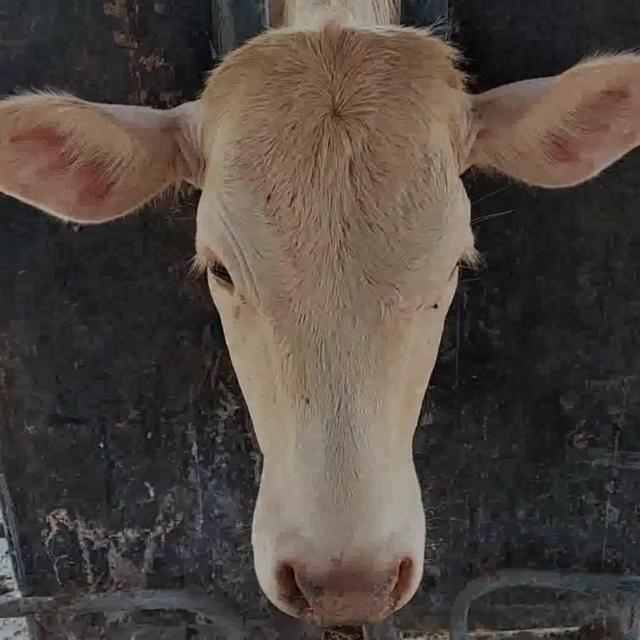cowFace: (195, 28, 478, 622)
